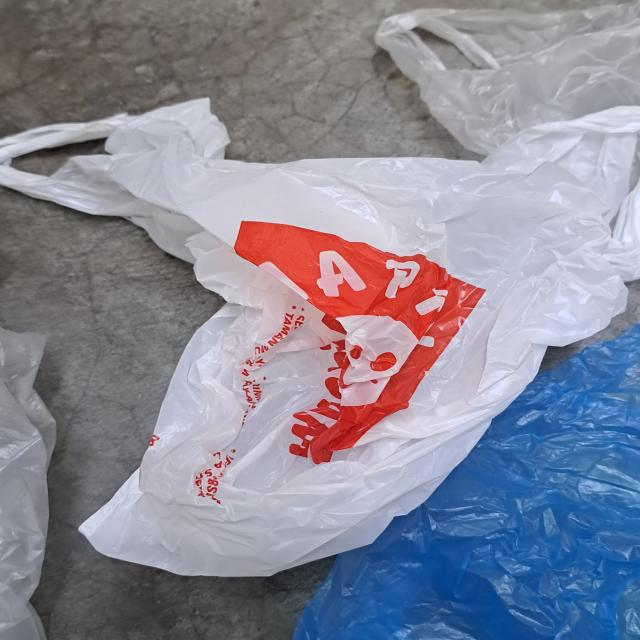plastic bag: (0, 92, 640, 570), (1, 317, 63, 640)
